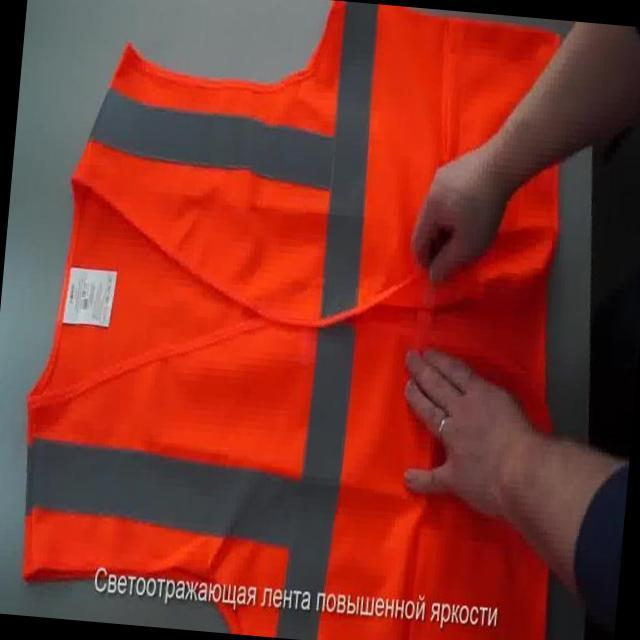Safety Vest: (5, 0, 602, 640)
bare-arms: (380, 326, 540, 522), (393, 140, 527, 290)
